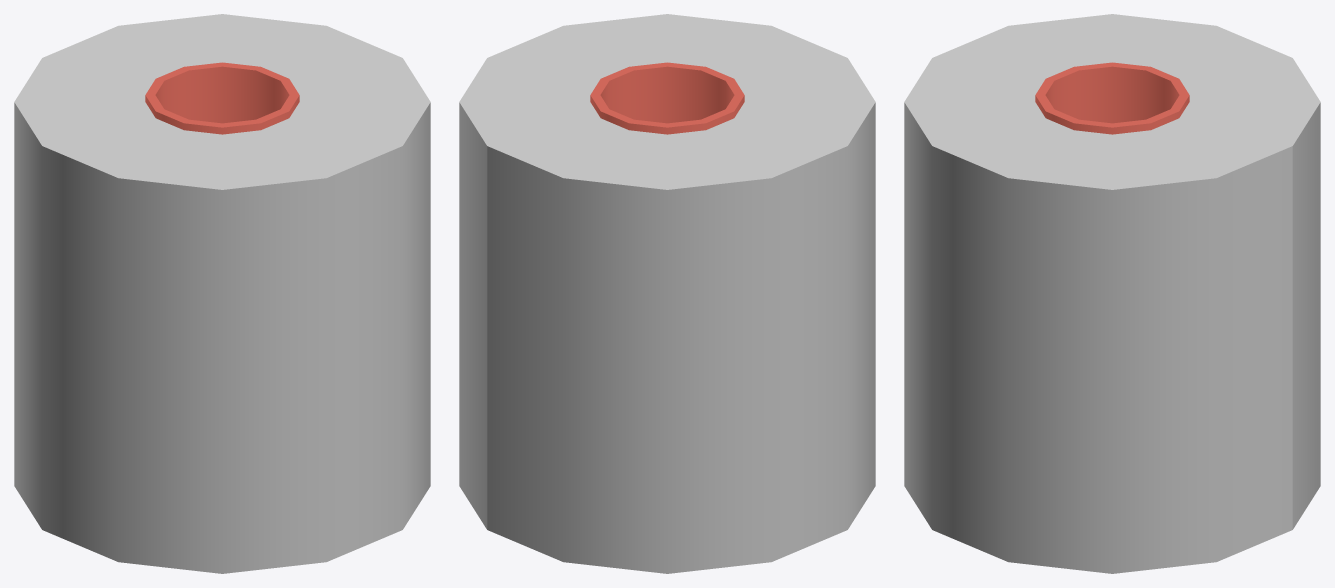
The model's file is Peçete.fbx.
The picture shows the model from 3 angles, left to right: view 1: azimuth 30°, elevation 25°; view 2: azimuth 150°, elevation 25°; view 3: azimuth 270°, elevation 25°; orthographic projection.
Parts seen in each view (by area): view 1: Peçete; view 2: Peçete; view 3: Peçete.
Boxes of the visible parts, left/top/right/bottom form: Peçete: left=14, top=14, right=430, bottom=573; Peçete: left=459, top=14, right=875, bottom=573; Peçete: left=904, top=14, right=1320, bottom=573.
Size of the model in its own units: 540 by 569 by 540.
